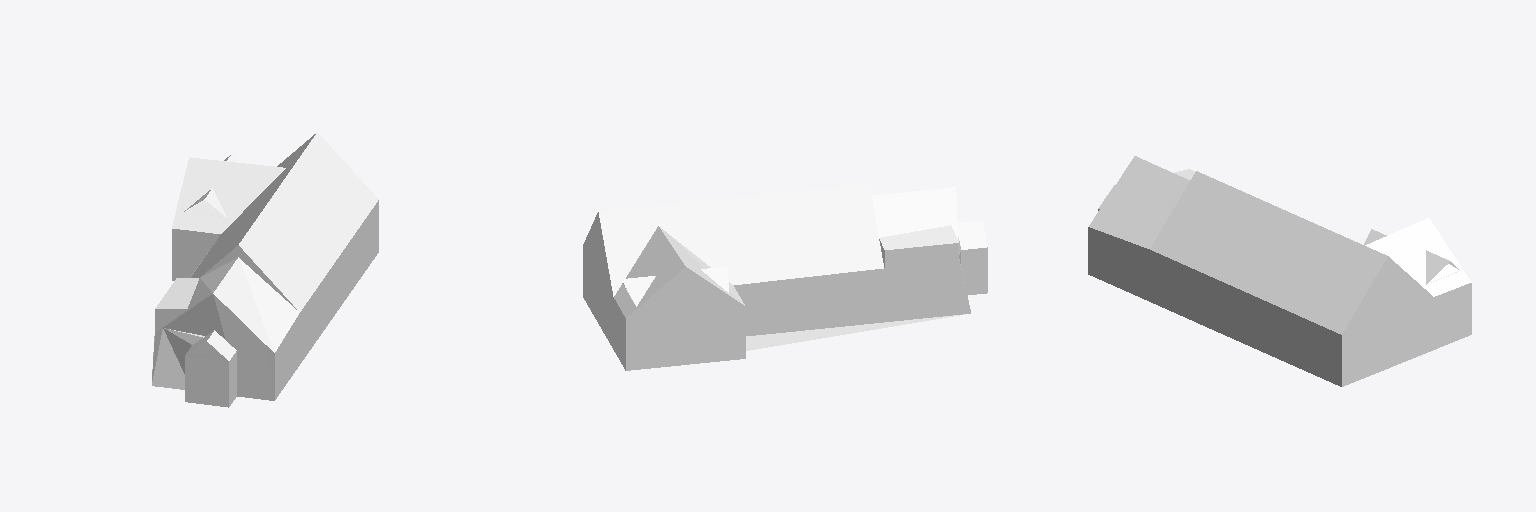
File: house_Shape 228.obj
3 views of the same model, side by side, from view 1: azimuth 30°, elevation 25°; view 2: azimuth 150°, elevation 25°; view 3: azimuth 270°, elevation 25° (orthographic).
Parts seen in each view (by area): view 1: CityEngineMaterial_38, CityEngineMaterial_121, CityEngineMaterial_122; view 2: CityEngineMaterial_38, CityEngineMaterial_121, CityEngineMaterial_122, CityEngineMaterial_123, CityEngineMaterial_40; view 3: CityEngineMaterial_38, CityEngineMaterial_122, CityEngineMaterial_121, CityEngineMaterial_123.
Part boxes in pixels (bbox=[...]): CityEngineMaterial_38: bbox=[155, 132, 378, 360]; CityEngineMaterial_121: bbox=[152, 229, 296, 407]; CityEngineMaterial_122: bbox=[152, 200, 378, 399]; CityEngineMaterial_38: bbox=[598, 184, 987, 317]; CityEngineMaterial_121: bbox=[583, 236, 987, 370]; CityEngineMaterial_122: bbox=[734, 260, 970, 335]; CityEngineMaterial_123: bbox=[584, 212, 958, 292]; CityEngineMaterial_40: bbox=[625, 287, 965, 350]; CityEngineMaterial_38: bbox=[1089, 156, 1471, 334]; CityEngineMaterial_122: bbox=[1088, 227, 1341, 386]; CityEngineMaterial_121: bbox=[1098, 209, 1471, 386]; CityEngineMaterial_123: bbox=[1344, 256, 1431, 330].
Size of the model in its own units: 26.44 by 9.23 by 28.5.